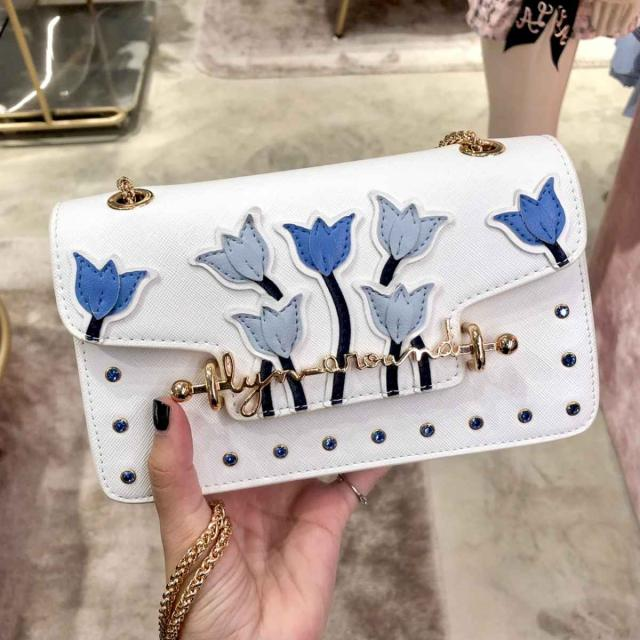handbag: (21, 120, 610, 510)
